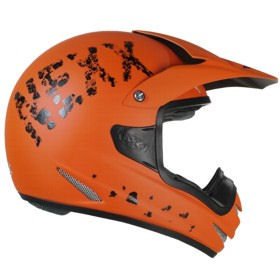helmet: (9, 32, 260, 249)
